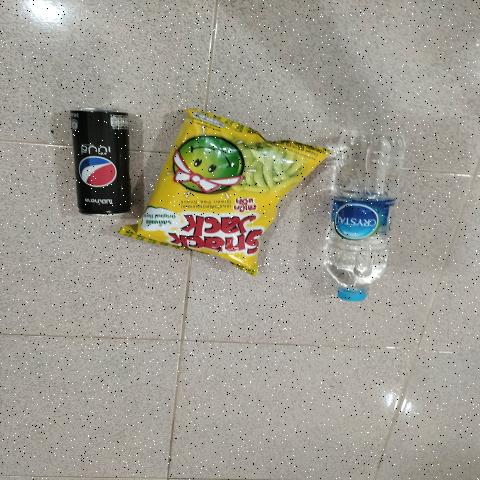crystal: (328, 130, 393, 310)
pepsi_black: (80, 109, 128, 216)
snack_jack: (153, 150, 308, 260)
